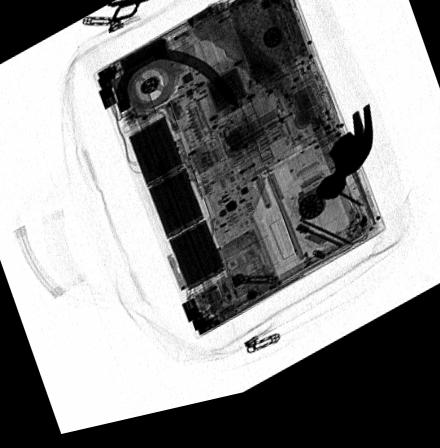Hammer: (195, 22, 372, 216)
